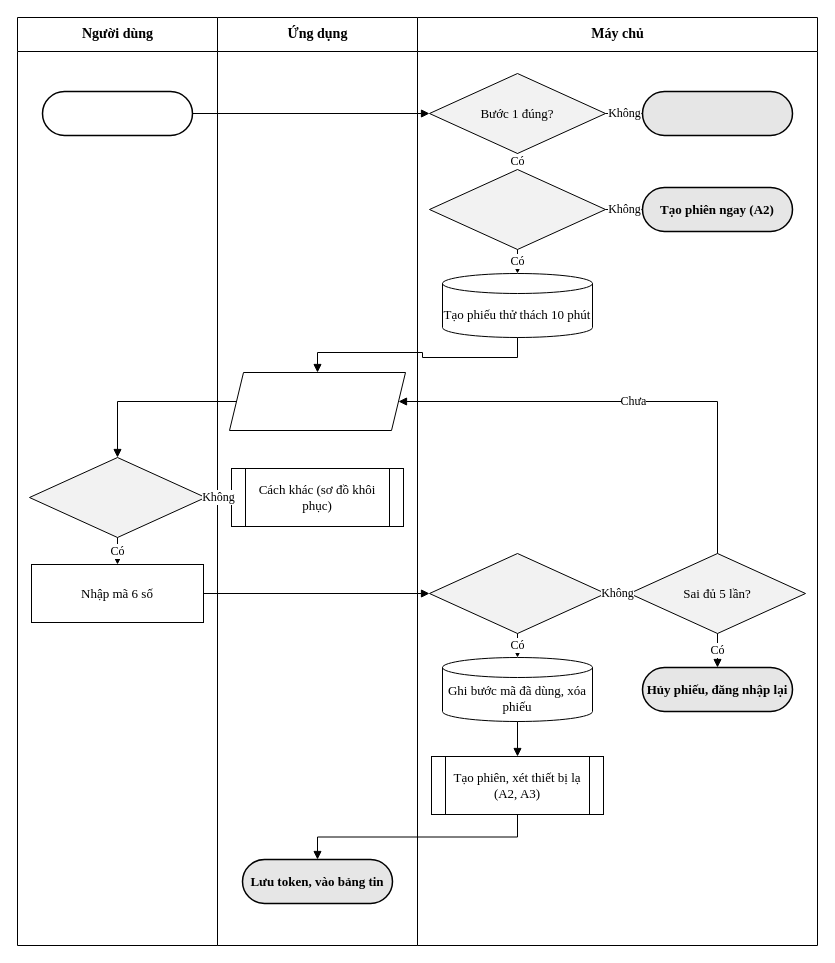
Some shapes in this 835 by 963 pixel diagram are drawn without their labels. The shapes that lost their labels are listed below. From the top down, each one's centre as x and y in pixels, then its label:
At (117,113): "Đăng nhập (mật khẩu, Google, Apple)".
At (717,113): "Báo lỗi, tính vào A4".
At (517,209): "Đã bật 2FA?".
At (317,401): "Màn nhập mã 6 số".
At (117,497): "Còn ứng dụng xác thực?".
At (517,593): "Phiếu còn hạn, mã đúng?".
